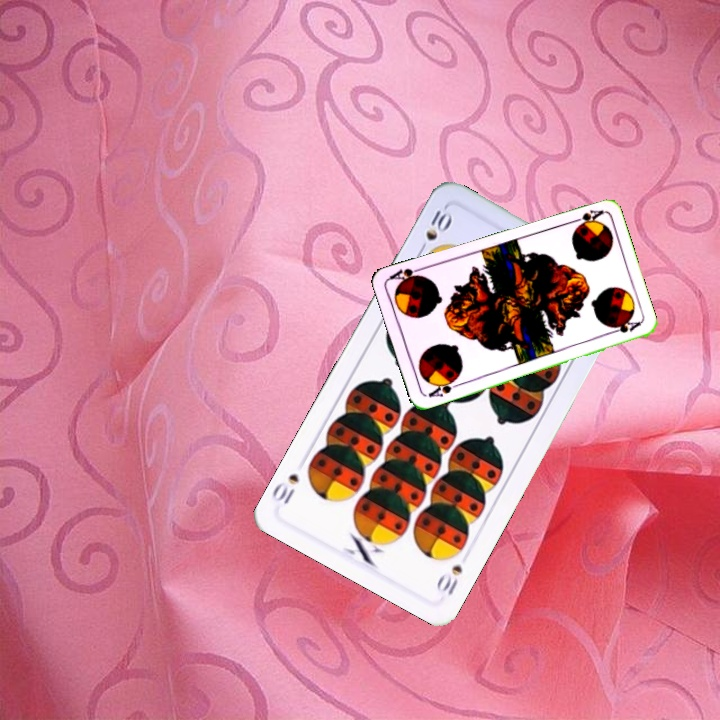S10: (414, 203, 456, 257), (432, 560, 465, 598)
SA: (424, 374, 463, 400), (566, 205, 605, 228)
